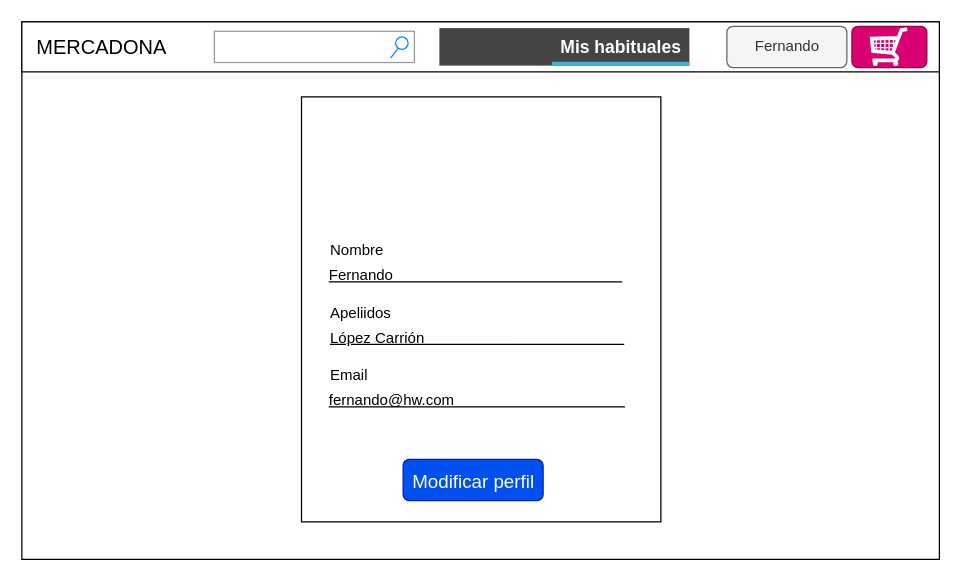
This 961x581 diagram has some shape labels left out. Each missing label, with the centre of its shape:
"Categorías" belongs at point 495,46.
"Search" belongs at point 313,46.
